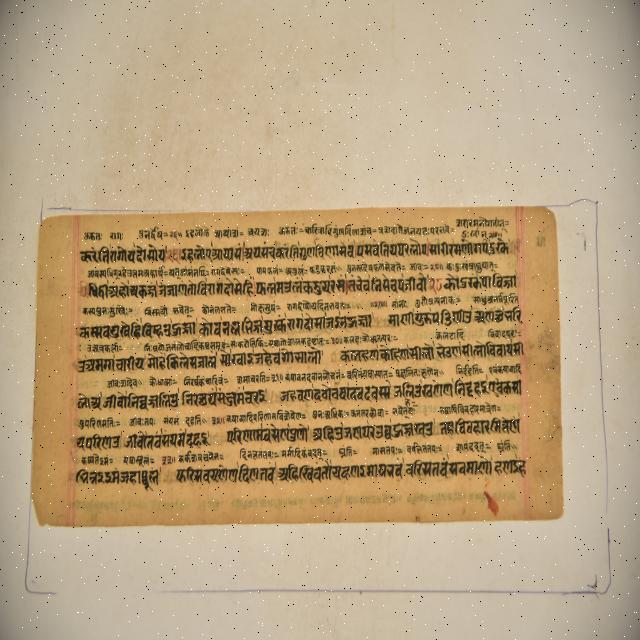text_paragraph: (32, 208, 562, 525)
